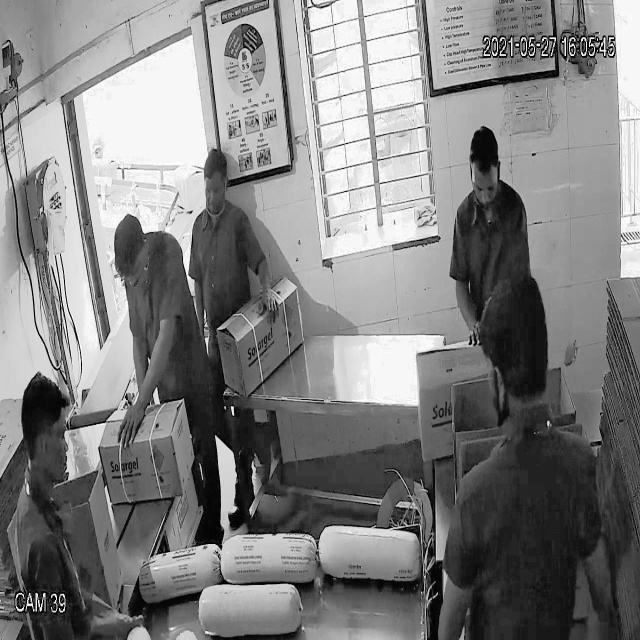Sin_gafas: (464, 169, 506, 204)
